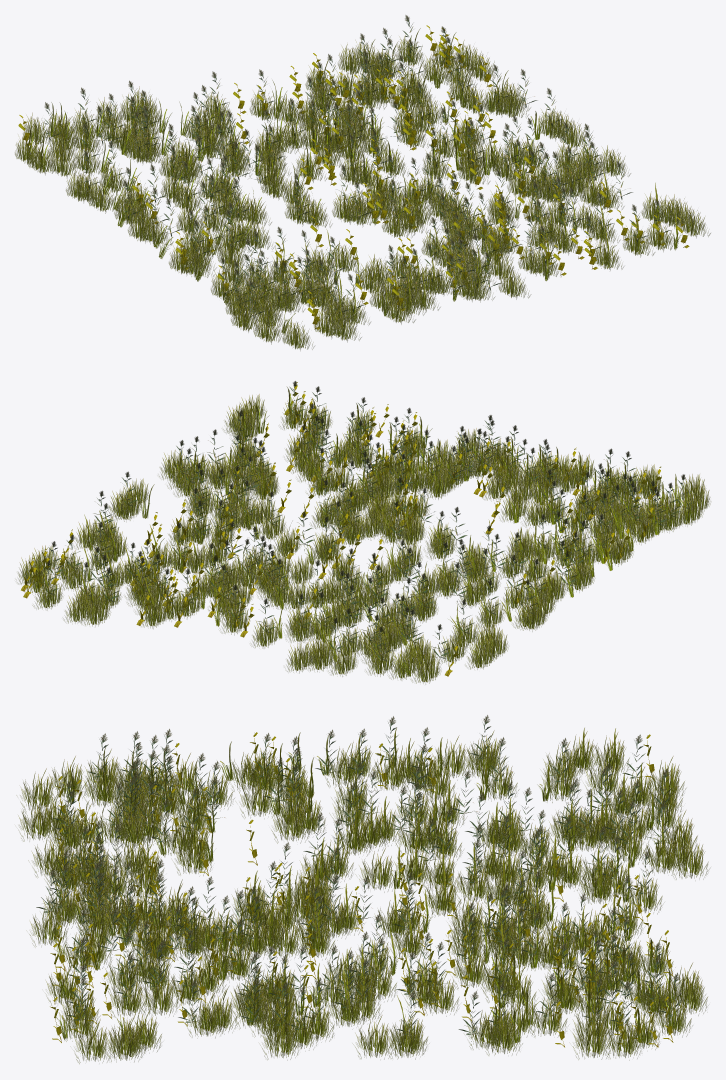
Rendered from Grass2.glb.
3 views of the same model, one above another, from view 1: azimuth 30°, elevation 25°; view 2: azimuth 150°, elevation 25°; view 3: azimuth 270°, elevation 25° (orthographic). The views are drawn at different scales.
Parts seen in each view (by area): view 1: grass var.017; view 2: grass var.017; view 3: grass var.017.
Boxes of the visible parts, left/top/right/bottom form: grass var.017: left=15, top=15, right=710, bottom=350; grass var.017: left=18, top=381, right=710, bottom=683; grass var.017: left=18, top=715, right=709, bottom=1063.
Size of the model in its own units: 13.76 by 2.06 by 14.7.
Materials: 5 (5 with a texture image).
